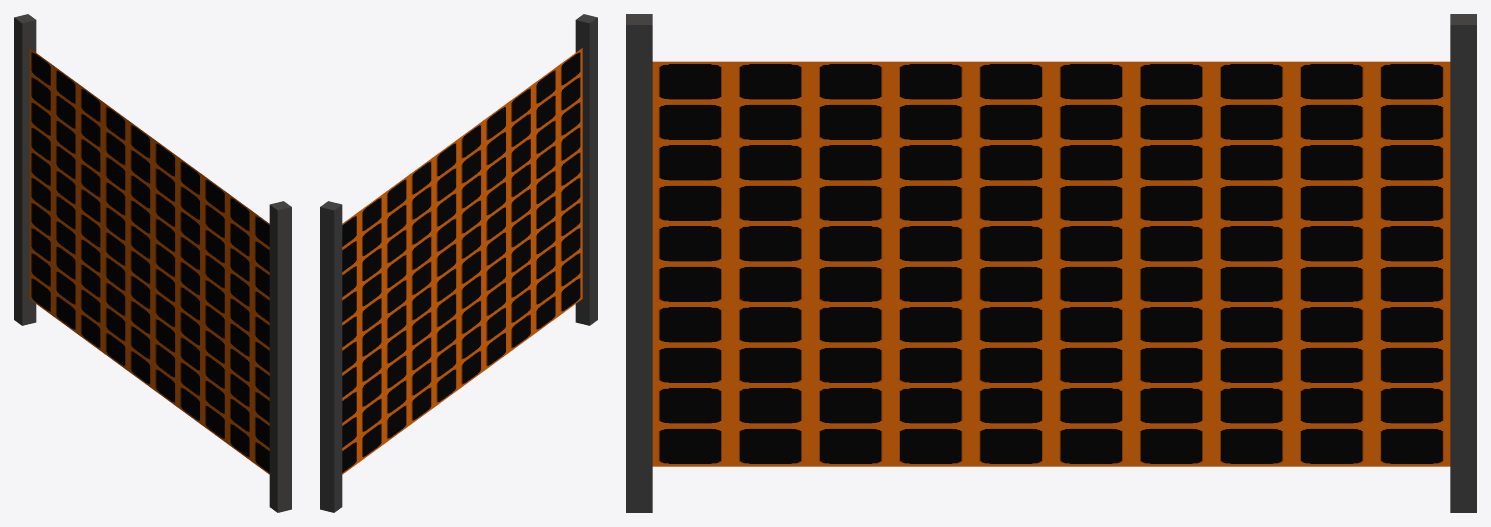
The model's file is barrier.glb.
The picture shows the model from 3 angles, left to right: view 1: azimuth 30°, elevation 25°; view 2: azimuth 150°, elevation 25°; view 3: azimuth 270°, elevation 25°; orthographic projection. The views are drawn at different scales.
Parts seen in each view (by area): view 1: barrier; view 2: barrier; view 3: barrier.
Boxes of the visible parts, <box> form: barrier: <box>14,14,291,512</box>; barrier: <box>320,14,597,512</box>; barrier: <box>626,14,1476,512</box>.
Size of the model in its own units: 0.0706 by 1.44 by 2.28.
Materials: 2 (1 with a texture image).
